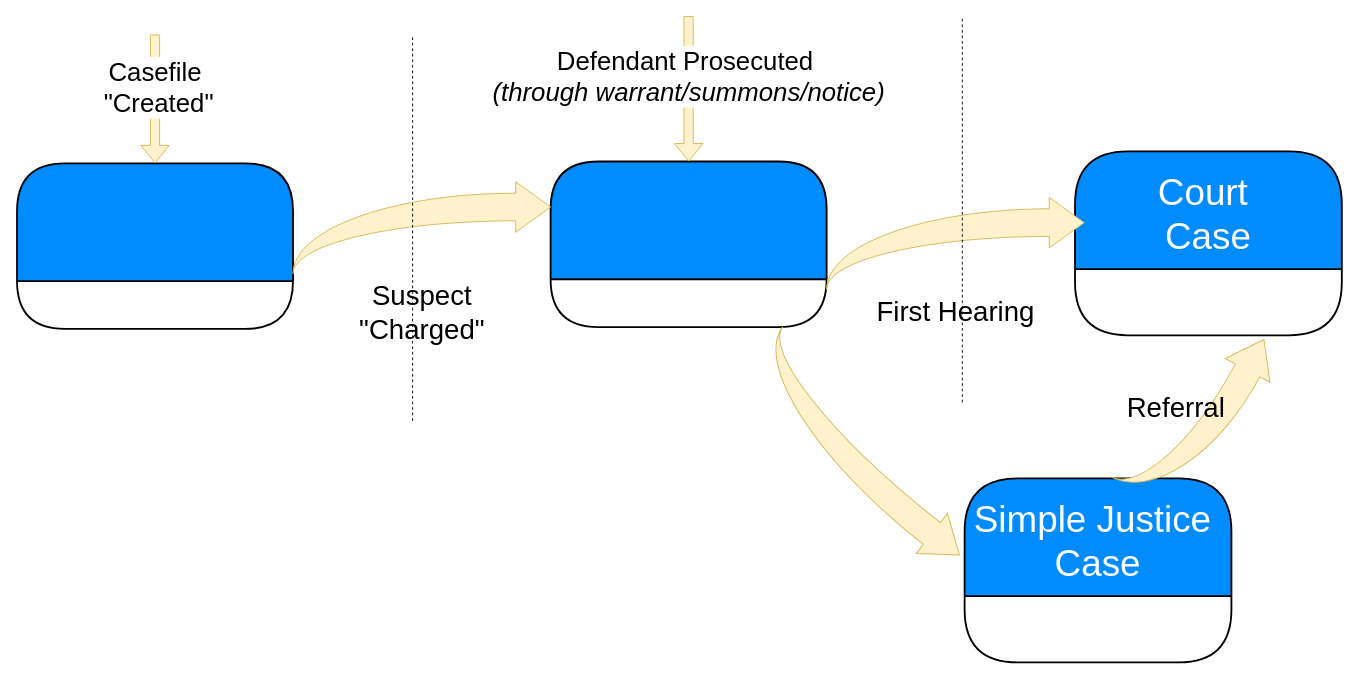
This 1358x679 diagram has some shape labels left out. Here are the shapes that lost their labels. From the top down, the centre of each, then its label:
pixel 154 245: Pre-Charge Case
pixel 688 244: Prosecuted Case
pixel 863 450: Notice
